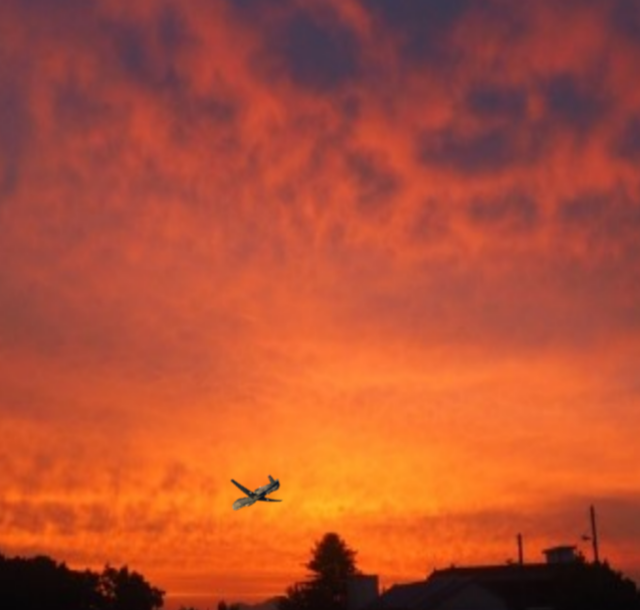military drone: (230, 474, 282, 510)
